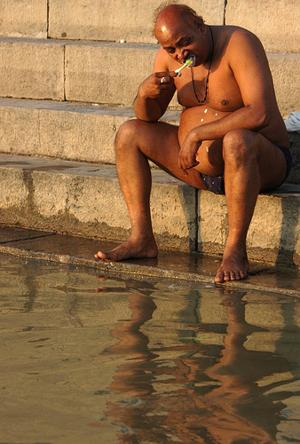person: (99, 5, 294, 285)
